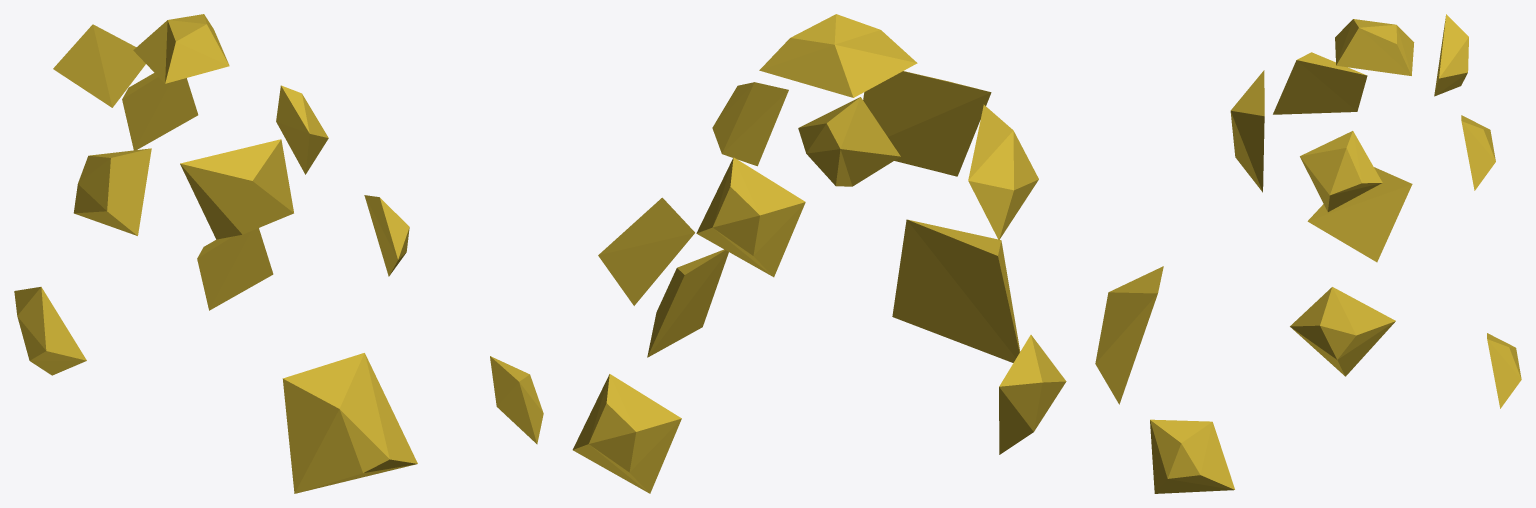
Rendered from GoldOreC.fbx.
3 views of the same model, side by side, from view 1: azimuth 30°, elevation 25°; view 2: azimuth 150°, elevation 25°; view 3: azimuth 270°, elevation 25° (orthographic). The views are drawn at different scales.
Visible parts, largest first — view 1: GoldOreC; view 2: GoldOreC; view 3: GoldOreC.
Boxes of the visible parts, left/top/right/bottom form: GoldOreC: left=14, top=14, right=543, bottom=493; GoldOreC: left=572, top=14, right=1066, bottom=493; GoldOreC: left=1095, top=14, right=1521, bottom=493.
Bounding box in the file's own units: 41.25 × 37.45 × 39.52.
